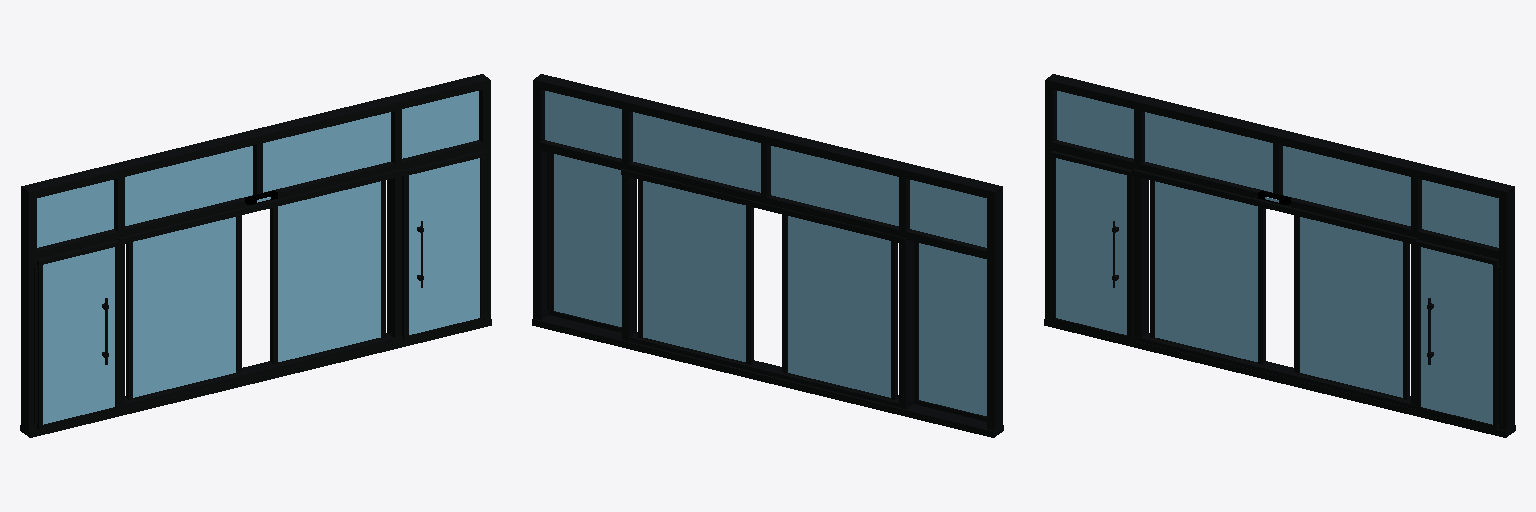
The robot description file, URDF, robot "automatic_sliding_glass_entrance":
<robot name="automatic_sliding_glass_entrance">
  <material name="dark_gray_powder_coated_metal">
    <color rgba="0.08 0.085 0.09 1" />
    </material>
  <material name="slightly_blue_gray_transparent_glass">
    <color rgba="0.55 0.78 0.88 0.34" />
    </material>
  <material name="black_sensor_plastic">
    <color rgba="0.005 0.005 0.006 1" />
    </material>
  <link name="frame">
    <visual name="top_rail">
      <origin xyz="0 0 3" rpy="0 0 0" />
      <geometry>
        <box size="6 0.18 0.1" />
        </geometry>
      <material name="dark_gray_powder_coated_metal">
        <color rgba="0.08 0.085 0.09 1" />
        </material>
      </visual>
    <visual name="bottom_threshold">
      <origin xyz="0 0 0.04" rpy="0 0 0" />
      <geometry>
        <box size="6 0.22 0.08" />
        </geometry>
      <material name="dark_gray_powder_coated_metal">
        <color rgba="0.08 0.085 0.09 1" />
        </material>
      </visual>
    <visual name="left_outer_post">
      <origin xyz="-2.95 0 1.525" rpy="0 0 0" />
      <geometry>
        <box size="0.1 0.18 3.05" />
        </geometry>
      <material name="dark_gray_powder_coated_metal">
        <color rgba="0.08 0.085 0.09 1" />
        </material>
      </visual>
    <visual name="right_outer_post">
      <origin xyz="2.95 0 1.525" rpy="0 0 0" />
      <geometry>
        <box size="0.1 0.18 3.05" />
        </geometry>
      <material name="dark_gray_powder_coated_metal">
        <color rgba="0.08 0.085 0.09 1" />
        </material>
      </visual>
    <visual name="left_jamb">
      <origin xyz="-1.8 0 1.515" rpy="0 0 0" />
      <geometry>
        <box size="0.1 0.18 2.95" />
        </geometry>
      <material name="dark_gray_powder_coated_metal">
        <color rgba="0.08 0.085 0.09 1" />
        </material>
      </visual>
    <visual name="right_jamb">
      <origin xyz="1.8 0 1.515" rpy="0 0 0" />
      <geometry>
        <box size="0.1 0.18 2.95" />
        </geometry>
      <material name="dark_gray_powder_coated_metal">
        <color rgba="0.08 0.085 0.09 1" />
        </material>
      </visual>
    <visual name="transom_header_rail">
      <origin xyz="0 0 2.24" rpy="0 0 0" />
      <geometry>
        <box size="6 0.18 0.1" />
        </geometry>
      <material name="dark_gray_powder_coated_metal">
        <color rgba="0.08 0.085 0.09 1" />
        </material>
      </visual>
    <visual name="central_header_track">
      <origin xyz="0 -0.01 2.175" rpy="0 0 0" />
      <geometry>
        <box size="3.7 0.24 0.07" />
        </geometry>
      <material name="dark_gray_powder_coated_metal">
        <color rgba="0.08 0.085 0.09 1" />
        </material>
      </visual>
    <visual name="central_lower_track">
      <origin xyz="0 -0.01 0.105" rpy="0 0 0" />
      <geometry>
        <box size="3.7 0.18 0.05" />
        </geometry>
      <material name="dark_gray_powder_coated_metal">
        <color rgba="0.08 0.085 0.09 1" />
        </material>
      </visual>
    <visual name="center_transom_mullion">
      <origin xyz="0 0 2.625" rpy="0 0 0" />
      <geometry>
        <box size="0.075 0.18 0.76" />
        </geometry>
      <material name="dark_gray_powder_coated_metal">
        <color rgba="0.08 0.085 0.09 1" />
        </material>
      </visual>
    <visual name="left_hinge_backplate">
      <origin xyz="-2.9 -0.08 1.135" rpy="0 0 0" />
      <geometry>
        <box size="0.07 0.06 1.95" />
        </geometry>
      <material name="dark_gray_powder_coated_metal">
        <color rgba="0.08 0.085 0.09 1" />
        </material>
      </visual>
    <visual name="right_hinge_backplate">
      <origin xyz="2.9 -0.08 1.135" rpy="0 0 0" />
      <geometry>
        <box size="0.07 0.06 1.95" />
        </geometry>
      <material name="dark_gray_powder_coated_metal">
        <color rgba="0.08 0.085 0.09 1" />
        </material>
      </visual>
    <visual name="left_transom_glass">
      <origin xyz="-2.375 0 2.615" rpy="0 0 0" />
      <geometry>
        <box size="1.1 0.016 0.71" />
        </geometry>
      <material name="slightly_blue_gray_transparent_glass">
        <color rgba="0.55 0.78 0.88 0.34" />
        </material>
      </visual>
    <visual name="center_transom_glass">
      <origin xyz="0 0 2.615" rpy="0 0 0" />
      <geometry>
        <box size="3.56 0.016 0.71" />
        </geometry>
      <material name="slightly_blue_gray_transparent_glass">
        <color rgba="0.55 0.78 0.88 0.34" />
        </material>
      </visual>
    <visual name="right_transom_glass">
      <origin xyz="2.375 0 2.615" rpy="0 0 0" />
      <geometry>
        <box size="1.1 0.016 0.71" />
        </geometry>
      <material name="slightly_blue_gray_transparent_glass">
        <color rgba="0.55 0.78 0.88 0.34" />
        </material>
      </visual>
    </link>
  <link name="left_sliding_leaf">
    <visual name="glass_panel">
      <geometry>
        <box size="1.38 0.018 2.03" />
        </geometry>
      <material name="slightly_blue_gray_transparent_glass">
        <color rgba="0.55 0.78 0.88 0.34" />
        </material>
      </visual>
    <visual name="top_rail">
      <origin xyz="0 0 1.0275" rpy="0 0 0" />
      <geometry>
        <box size="1.46 0.06 0.055" />
        </geometry>
      <material name="dark_gray_powder_coated_metal">
        <color rgba="0.08 0.085 0.09 1" />
        </material>
      </visual>
    <visual name="bottom_rail">
      <origin xyz="0 0 -1.0275" rpy="0 0 0" />
      <geometry>
        <box size="1.46 0.06 0.055" />
        </geometry>
      <material name="dark_gray_powder_coated_metal">
        <color rgba="0.08 0.085 0.09 1" />
        </material>
      </visual>
    <visual name="outer_stile">
      <origin xyz="-0.7025 0 0" rpy="0 0 0" />
      <geometry>
        <box size="0.055 0.06 2.11" />
        </geometry>
      <material name="dark_gray_powder_coated_metal">
        <color rgba="0.08 0.085 0.09 1" />
        </material>
      </visual>
    <visual name="meeting_stile">
      <origin xyz="0.7025 0 0" rpy="0 0 0" />
      <geometry>
        <box size="0.055 0.06 2.11" />
        </geometry>
      <material name="dark_gray_powder_coated_metal">
        <color rgba="0.08 0.085 0.09 1" />
        </material>
      </visual>
    <visual name="brush_seal">
      <origin xyz="0.724 0 0" rpy="0 0 0" />
      <geometry>
        <box size="0.018 0.07 1.95" />
        </geometry>
      <material name="dark_gray_powder_coated_metal">
        <color rgba="0.08 0.085 0.09 1" />
        </material>
      </visual>
    </link>
  <link name="right_sliding_leaf">
    <visual name="glass_panel">
      <geometry>
        <box size="1.38 0.018 2.03" />
        </geometry>
      <material name="slightly_blue_gray_transparent_glass">
        <color rgba="0.55 0.78 0.88 0.34" />
        </material>
      </visual>
    <visual name="top_rail">
      <origin xyz="0 0 1.0275" rpy="0 0 0" />
      <geometry>
        <box size="1.46 0.06 0.055" />
        </geometry>
      <material name="dark_gray_powder_coated_metal">
        <color rgba="0.08 0.085 0.09 1" />
        </material>
      </visual>
    <visual name="bottom_rail">
      <origin xyz="0 0 -1.0275" rpy="0 0 0" />
      <geometry>
        <box size="1.46 0.06 0.055" />
        </geometry>
      <material name="dark_gray_powder_coated_metal">
        <color rgba="0.08 0.085 0.09 1" />
        </material>
      </visual>
    <visual name="outer_stile">
      <origin xyz="0.7025 0 0" rpy="0 0 0" />
      <geometry>
        <box size="0.055 0.06 2.11" />
        </geometry>
      <material name="dark_gray_powder_coated_metal">
        <color rgba="0.08 0.085 0.09 1" />
        </material>
      </visual>
    <visual name="meeting_stile">
      <origin xyz="-0.7025 0 0" rpy="0 0 0" />
      <geometry>
        <box size="0.055 0.06 2.11" />
        </geometry>
      <material name="dark_gray_powder_coated_metal">
        <color rgba="0.08 0.085 0.09 1" />
        </material>
      </visual>
    <visual name="brush_seal">
      <origin xyz="-0.724 0 0" rpy="0 0 0" />
      <geometry>
        <box size="0.018 0.07 1.95" />
        </geometry>
      <material name="dark_gray_powder_coated_metal">
        <color rgba="0.08 0.085 0.09 1" />
        </material>
      </visual>
    </link>
  <link name="left_side_door">
    <visual name="glass_panel">
      <origin xyz="0.525 0 0" rpy="0 0 0" />
      <geometry>
        <box size="0.965 0.018 2.025" />
        </geometry>
      <material name="slightly_blue_gray_transparent_glass">
        <color rgba="0.55 0.78 0.88 0.34" />
        </material>
      </visual>
    <visual name="hinge_stile">
      <origin xyz="0.0275 0 0" rpy="0 0 0" />
      <geometry>
        <box size="0.055 0.06 2.11" />
        </geometry>
      <material name="dark_gray_powder_coated_metal">
        <color rgba="0.08 0.085 0.09 1" />
        </material>
      </visual>
    <visual name="latch_stile">
      <origin xyz="1.0225 0 0" rpy="0 0 0" />
      <geometry>
        <box size="0.055 0.06 2.11" />
        </geometry>
      <material name="dark_gray_powder_coated_metal">
        <color rgba="0.08 0.085 0.09 1" />
        </material>
      </visual>
    <visual name="top_rail">
      <origin xyz="0.525 0 1.0275" rpy="0 0 0" />
      <geometry>
        <box size="1.05 0.06 0.055" />
        </geometry>
      <material name="dark_gray_powder_coated_metal">
        <color rgba="0.08 0.085 0.09 1" />
        </material>
      </visual>
    <visual name="bottom_rail">
      <origin xyz="0.525 0 -1.0275" rpy="0 0 0" />
      <geometry>
        <box size="1.05 0.06 0.055" />
        </geometry>
      <material name="dark_gray_powder_coated_metal">
        <color rgba="0.08 0.085 0.09 1" />
        </material>
      </visual>
    <visual name="pull_handle">
      <origin xyz="0.85 -0.078 0" rpy="0 0 0" />
      <geometry>
        <cylinder radius="0.016" length="0.82" />
        </geometry>
      <material name="dark_gray_powder_coated_metal">
        <color rgba="0.08 0.085 0.09 1" />
        </material>
      </visual>
    <visual name="handle_upper_standoff">
      <origin xyz="0.85 -0.043 0.3" rpy="0 0 0" />
      <geometry>
        <box size="0.055 0.075 0.04" />
        </geometry>
      <material name="dark_gray_powder_coated_metal">
        <color rgba="0.08 0.085 0.09 1" />
        </material>
      </visual>
    <visual name="handle_lower_standoff">
      <origin xyz="0.85 -0.043 -0.3" rpy="0 0 0" />
      <geometry>
        <box size="0.055 0.075 0.04" />
        </geometry>
      <material name="dark_gray_powder_coated_metal">
        <color rgba="0.08 0.085 0.09 1" />
        </material>
      </visual>
    </link>
  <link name="right_side_door">
    <visual name="glass_panel">
      <origin xyz="-0.525 0 0" rpy="0 0 0" />
      <geometry>
        <box size="0.965 0.018 2.025" />
        </geometry>
      <material name="slightly_blue_gray_transparent_glass">
        <color rgba="0.55 0.78 0.88 0.34" />
        </material>
      </visual>
    <visual name="hinge_stile">
      <origin xyz="-0.0275 0 0" rpy="0 0 0" />
      <geometry>
        <box size="0.055 0.06 2.11" />
        </geometry>
      <material name="dark_gray_powder_coated_metal">
        <color rgba="0.08 0.085 0.09 1" />
        </material>
      </visual>
    <visual name="latch_stile">
      <origin xyz="-1.0225 0 0" rpy="0 0 0" />
      <geometry>
        <box size="0.055 0.06 2.11" />
        </geometry>
      <material name="dark_gray_powder_coated_metal">
        <color rgba="0.08 0.085 0.09 1" />
        </material>
      </visual>
    <visual name="top_rail">
      <origin xyz="-0.525 0 1.0275" rpy="0 0 0" />
      <geometry>
        <box size="1.05 0.06 0.055" />
        </geometry>
      <material name="dark_gray_powder_coated_metal">
        <color rgba="0.08 0.085 0.09 1" />
        </material>
      </visual>
    <visual name="bottom_rail">
      <origin xyz="-0.525 0 -1.0275" rpy="0 0 0" />
      <geometry>
        <box size="1.05 0.06 0.055" />
        </geometry>
      <material name="dark_gray_powder_coated_metal">
        <color rgba="0.08 0.085 0.09 1" />
        </material>
      </visual>
    <visual name="pull_handle">
      <origin xyz="-0.85 -0.078 0" rpy="0 0 0" />
      <geometry>
        <cylinder radius="0.016" length="0.82" />
        </geometry>
      <material name="dark_gray_powder_coated_metal">
        <color rgba="0.08 0.085 0.09 1" />
        </material>
      </visual>
    <visual name="handle_upper_standoff">
      <origin xyz="-0.85 -0.043 0.3" rpy="0 0 0" />
      <geometry>
        <box size="0.055 0.075 0.04" />
        </geometry>
      <material name="dark_gray_powder_coated_metal">
        <color rgba="0.08 0.085 0.09 1" />
        </material>
      </visual>
    <visual name="handle_lower_standoff">
      <origin xyz="-0.85 -0.043 -0.3" rpy="0 0 0" />
      <geometry>
        <box size="0.055 0.075 0.04" />
        </geometry>
      <material name="dark_gray_powder_coated_metal">
        <color rgba="0.08 0.085 0.09 1" />
        </material>
      </visual>
    </link>
  <link name="sensor">
    <visual name="sensor_box">
      <geometry>
        <box size="0.38 0.08 0.07" />
        </geometry>
      <material name="black_sensor_plastic">
        <color rgba="0.005 0.005 0.006 1" />
        </material>
      </visual>
    <visual name="sensor_lens">
      <origin xyz="0 -0.045 -0.003" rpy="0 0 0" />
      <geometry>
        <box size="0.18 0.01 0.03" />
        </geometry>
      <material name="slightly_blue_gray_transparent_glass">
        <color rgba="0.55 0.78 0.88 0.34" />
        </material>
      </visual>
    </link>
  <joint name="frame_to_left_sliding_leaf" type="prismatic">
    <origin xyz="-0.94 0 1.135" rpy="0 0 0" />
    <parent link="frame" />
    <child link="left_sliding_leaf" />
    <axis xyz="-1 0 0" />
    <limit effort="180" velocity="0.45" lower="-0.2" upper="0.07" />
    </joint>
  <joint name="frame_to_right_sliding_leaf" type="prismatic">
    <origin xyz="0.94 0 1.135" rpy="0 0 0" />
    <parent link="frame" />
    <child link="right_sliding_leaf" />
    <axis xyz="1 0 0" />
    <limit effort="180" velocity="0.45" lower="-0.2" upper="0.07" />
    </joint>
  <joint name="frame_to_left_side_door" type="revolute">
    <origin xyz="-2.9 -0.11 1.135" rpy="0 0 0" />
    <parent link="frame" />
    <child link="left_side_door" />
    <axis xyz="0 0 -1" />
    <limit effort="35" velocity="1" lower="-0.38" upper="0.7" />
    </joint>
  <joint name="frame_to_right_side_door" type="revolute">
    <origin xyz="2.9 -0.11 1.135" rpy="0 0 0" />
    <parent link="frame" />
    <child link="right_side_door" />
    <axis xyz="0 0 1" />
    <limit effort="35" velocity="1" lower="-0.38" upper="0.7" />
    </joint>
  <joint name="frame_to_sensor" type="fixed">
    <origin xyz="0 -0.13 2.295" rpy="0 0 0" />
    <parent link="frame" />
    <child link="sensor" />
    </joint>
  </robot>

--- What the picture shows (computed from the rendered views, not written in the file) ---
The picture shows the robot from 3 angles, left to right: view 1: azimuth 30°, elevation 25°; view 2: azimuth 150°, elevation 25°; view 3: azimuth 330°, elevation 25°; orthographic projection.
Robot: automatic_sliding_glass_entrance — 6 links, 5 joints (2 revolute, 2 prismatic, 1 fixed); root link frame; default pose: all joints at 0.
Visible links, largest first — view 1: frame, left_sliding_leaf, right_sliding_leaf, right_side_door, left_side_door; view 2: frame, left_sliding_leaf, right_sliding_leaf, left_side_door, right_side_door; view 3: frame, right_sliding_leaf, left_sliding_leaf, left_side_door, right_side_door.
Boxes of the visible links, <box> form: frame: <box>20,74,491,437</box>; left_sliding_leaf: <box>126,215,241,399</box>; right_sliding_leaf: <box>270,180,385,364</box>; right_side_door: <box>402,151,484,341</box>; left_side_door: <box>37,240,119,430</box>; frame: <box>532,74,1003,437</box>; left_sliding_leaf: <box>782,214,897,399</box>; right_sliding_leaf: <box>638,179,753,364</box>; left_side_door: <box>914,242,986,421</box>; right_side_door: <box>549,153,621,332</box>; frame: <box>1044,74,1515,437</box>; right_sliding_leaf: <box>1294,215,1409,399</box>; left_sliding_leaf: <box>1150,180,1265,364</box>; left_side_door: <box>1051,151,1133,341</box>; right_side_door: <box>1416,240,1498,430</box>.
Size in the robot's own frame: 6 by 0.314 by 3.05 metres.
Geometry: primitives only (box / cylinder / sphere), no mesh files.
